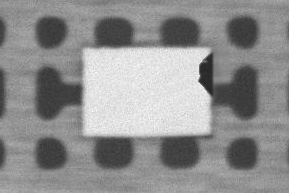DIE_BROKEN: (196, 51, 214, 96)
